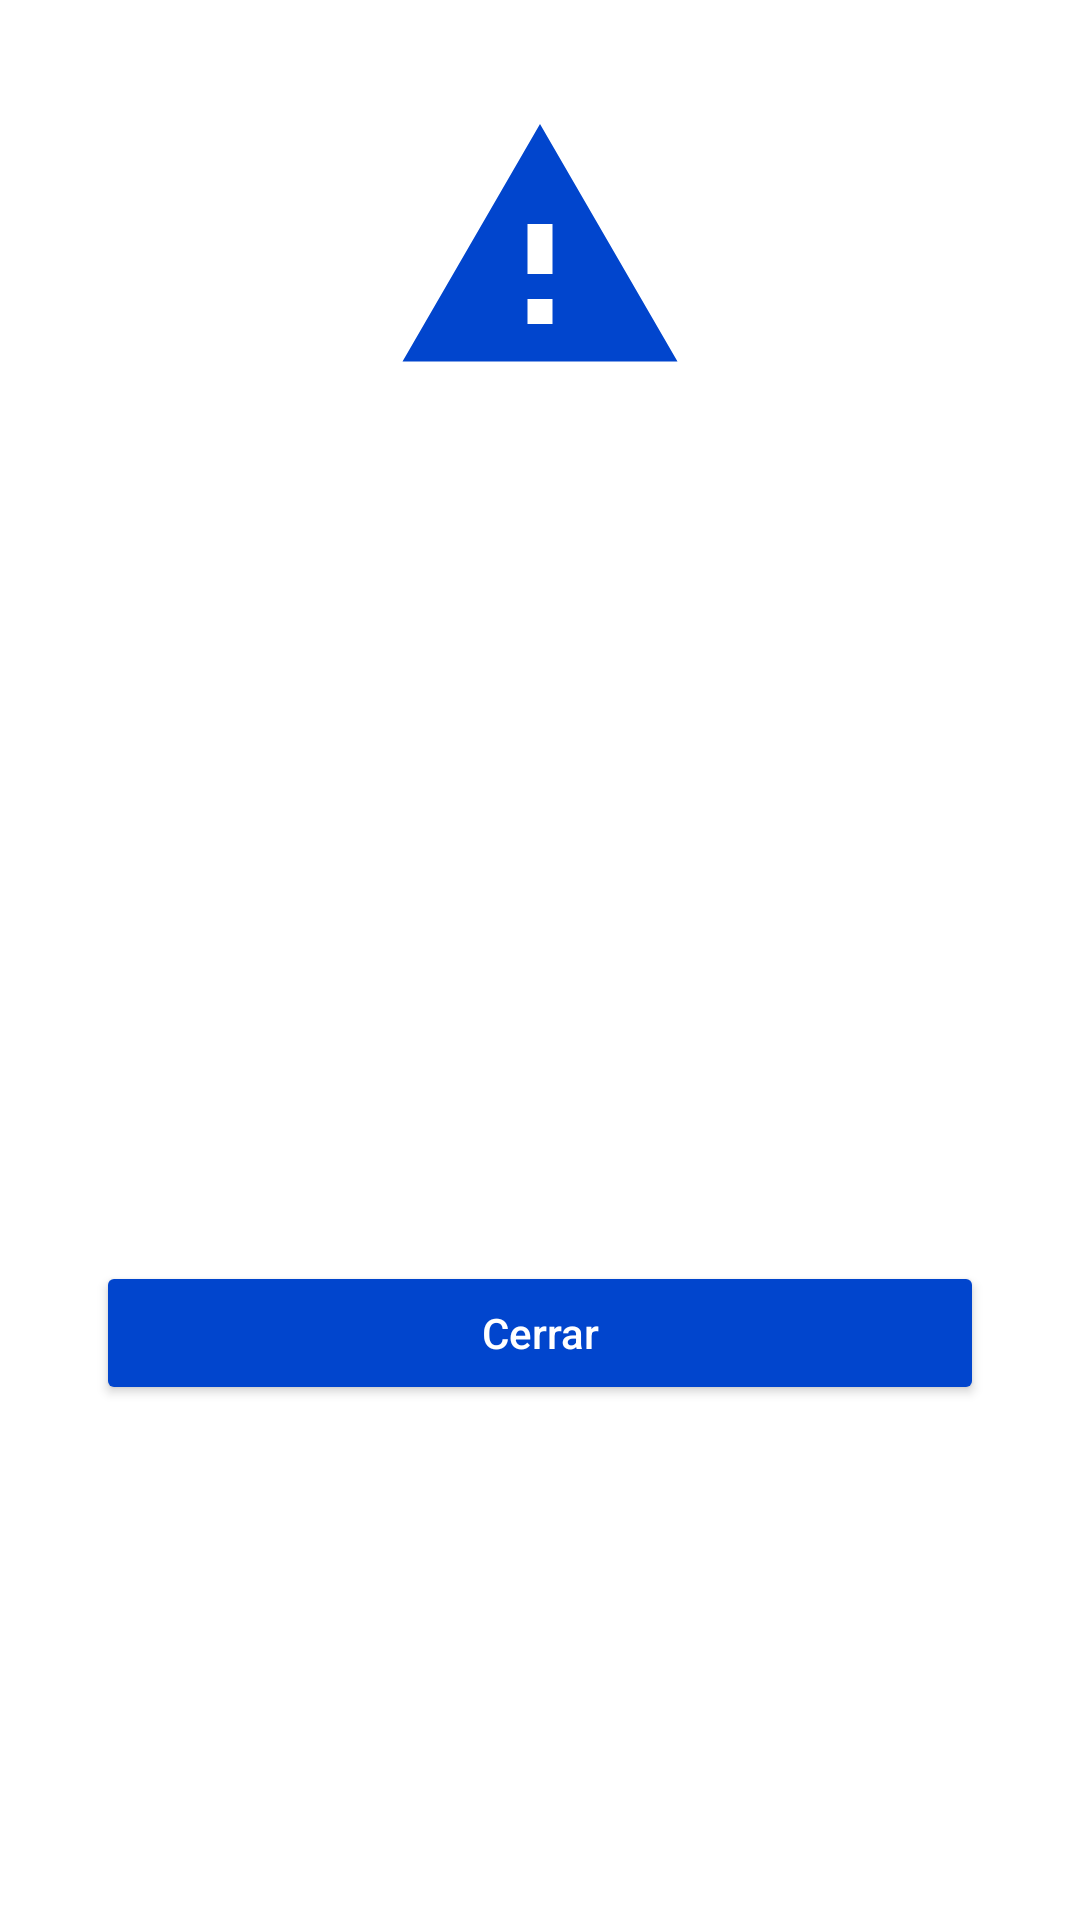

Named icons in this screenshot (1080 x 1920) and their bounding boxes, {"x1": x1, "y1": y1, "x2": x2, "y2": y2}:
warning: {"x1": 402, "y1": 124, "x2": 678, "y2": 362}
